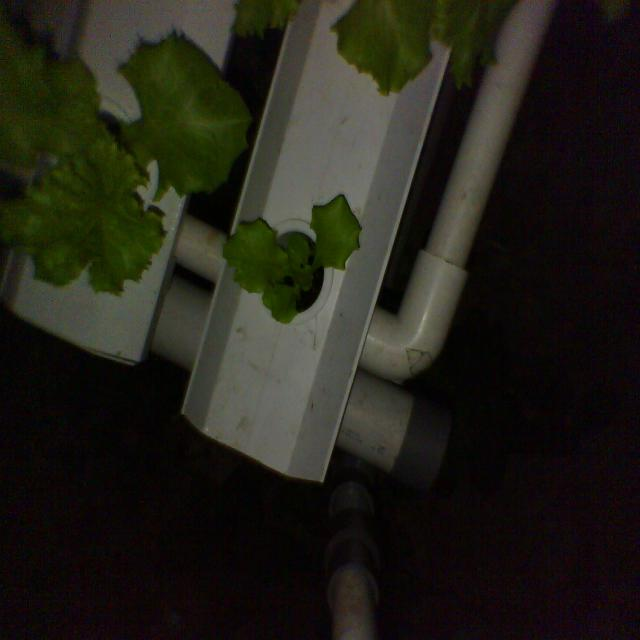FN: (1, 19, 257, 307), (215, 185, 365, 332)
